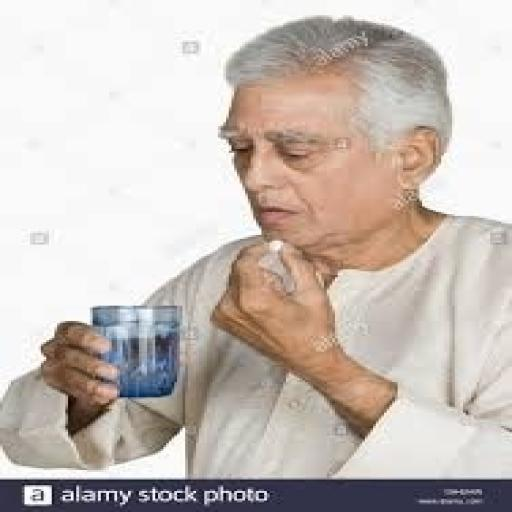drinking: (87, 304, 183, 397)
